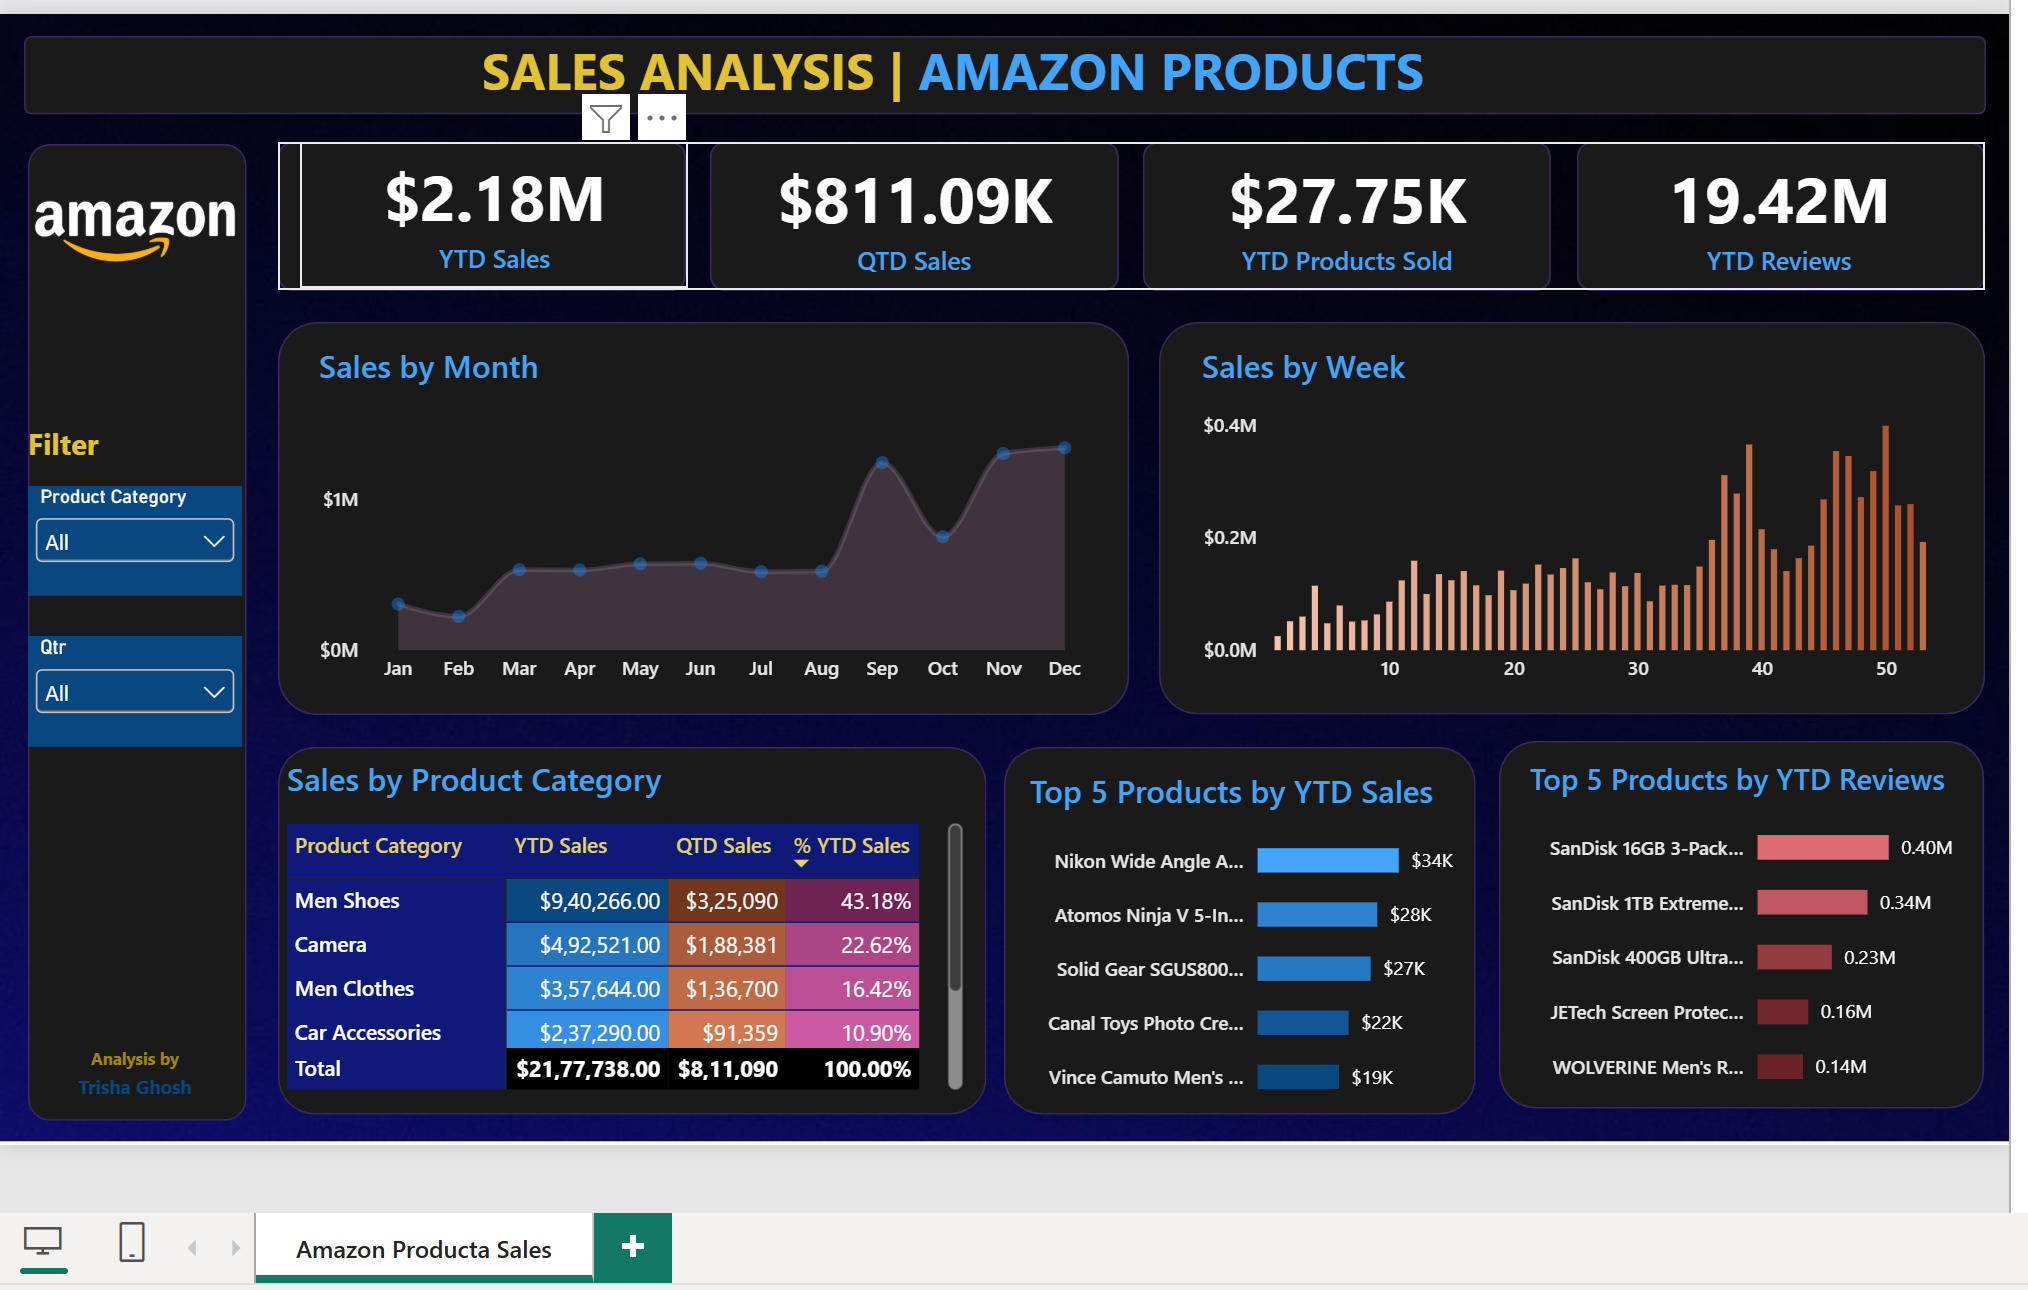

This screenshot's page, from the dashboard's own definition file:
{"tool":"powerbi","page":{"name":"Amazon Producta Sales","canvas":[1280,720],"ordinal":0},"visuals":[{"type":"shape","box":[15.3,13.8,1250,50],"z":0},{"type":"textbox","box":[307.8,13.8,609.4,50.5],"z":1000},{"type":"shape","box":[17.8,82.9,139.3,622],"z":2000},{"type":"shape","box":[177.6,81.1,260,95],"z":3000,"group":"g1"},{"type":"shape","box":[453.2,81.1,260,95],"z":3500,"group":"g1"},{"type":"cardVisual","fields":{"Data":["Amazon_Data.YTD Sales"]},"box":[191.4,81.1,248,93.4],"z":4000,"group":"g1"},{"type":"cardVisual","fields":{"Data":["Amazon_Data.QTD Sales"]},"box":[465.4,82.6,235.8,93.4],"z":6000,"group":"g1"},{"type":"shape","box":[728.8,81.1,260,95],"z":7000,"group":"g1"},{"type":"shape","box":[1004.4,81.1,260,95],"z":8000,"group":"g1"},{"type":"cardVisual","fields":{"Data":["Amazon_Data.YTD Products Sold"]},"box":[741,82.6,235.8,93.4],"z":8001,"group":"g1"},{"type":"cardVisual","fields":{"Data":["Amazon_Data.YTD Reviews"]},"box":[1016.6,82.6,235.8,93.4],"z":8002,"group":"g1"},{"type":"shape","box":[177.6,196,542,250],"z":8004},{"type":"group","id":"g1","title":"Group 1","box":[177.6,81.1,1086.8,95],"z":8005},{"type":"areaChart","title":"Sales by Month","fields":{"Category":["Date Table.Month Name"],"Y":["Sum(Amazon_Data.Price(Dollar))"]},"box":[186.8,196,522.1,249.6],"z":8006},{"type":"shape","box":[738,196,526.7,249.6],"z":8007},{"type":"columnChart","title":" Sales by Week","fields":{"Category":["Date Table.Week"],"Y":["Sum(Amazon_Data.Price(Dollar))"]},"box":[750.2,196,514.4,249.6],"z":8008},{"type":"shape","box":[177.6,467,451.7,234.3],"z":8009},{"type":"pivotTable","title":"Sales by Product Category","fields":{"Rows":["Amazon_Data.Product Category"],"Values":["Amazon_Data.YTD Sales1","Amazon_Data.QTD Sales","Amazon_Data.YTD Sales"]},"box":[166.9,459.3,462.4,241.9],"z":8010},{"type":"shape","box":[640,467,300.1,234.3],"z":8011},{"type":"shape","box":[955.4,462.4,309.3,234.3],"z":8012},{"type":"clusteredBarChart","title":"Top 5 Products by YTD Sales","fields":{"Category":["Amazon_Data.Product Description"],"Y":["Amazon_Data.YTD Sales"]},"box":[640,467,301.6,235.8],"z":8013},{"type":"clusteredBarChart","title":"Top 5 Products by YTD Reviews","fields":{"Category":["Amazon_Data.Product Description"],"Y":["Amazon_Data.YTD Reviews"]},"box":[958.5,460.9,301.6,235.8],"z":8014},{"type":"slicer","fields":{"Values":["Amazon_Data.Product Category"]},"box":[17.8,300.9,136.4,70.1],"z":8015},{"type":"slicer","fields":{"Values":["Date Table.Qtr"]},"box":[17.8,396.5,136.4,70.1],"z":8016},{"type":"image","box":[17.8,102,136.4,72.7],"z":8017},{"type":"textbox","box":[17.8,654,136.4,48.4],"z":8018},{"type":"textbox","box":[15.3,99.4,151.7,75.2],"z":8019},{"type":"textbox","box":[17.8,261.4,75.2,29.3],"z":8021}]}

Visuals, with their boxes on the page's 1280x720 design canvas (x1, y1, x2, y2). These are canvas units, not pixel positions in the 2028x1290 screenshot, which may show the page scaled, cropped or inside an application window:
shape: [15, 14, 1265, 64]
textbox: [308, 14, 917, 64]
shape: [18, 83, 157, 705]
shape: [178, 81, 438, 176]
shape: [453, 81, 713, 176]
cardVisual - Amazon_Data.YTD Sales: [191, 81, 439, 174]
cardVisual - Amazon_Data.QTD Sales: [465, 83, 701, 176]
shape: [729, 81, 989, 176]
shape: [1004, 81, 1264, 176]
cardVisual - Amazon_Data.YTD Products Sold: [741, 83, 977, 176]
cardVisual - Amazon_Data.YTD Reviews: [1017, 83, 1252, 176]
shape: [178, 196, 720, 446]
"Group 1" group: [178, 81, 1264, 176]
"Sales by Month" areaChart: [187, 196, 709, 446]
shape: [738, 196, 1265, 446]
" Sales by Week" columnChart: [750, 196, 1265, 446]
shape: [178, 467, 629, 701]
"Sales by Product Category" pivotTable: [167, 459, 629, 701]
shape: [640, 467, 940, 701]
shape: [955, 462, 1265, 697]
"Top 5 Products by YTD Sales" clusteredBarChart: [640, 467, 942, 703]
"Top 5 Products by YTD Reviews" clusteredBarChart: [958, 461, 1260, 697]
slicer - Amazon_Data.Product Category: [18, 301, 154, 371]
slicer - Date Table.Qtr: [18, 396, 154, 467]
image: [18, 102, 154, 175]
textbox: [18, 654, 154, 702]
textbox: [15, 99, 167, 175]
textbox: [18, 261, 93, 291]
